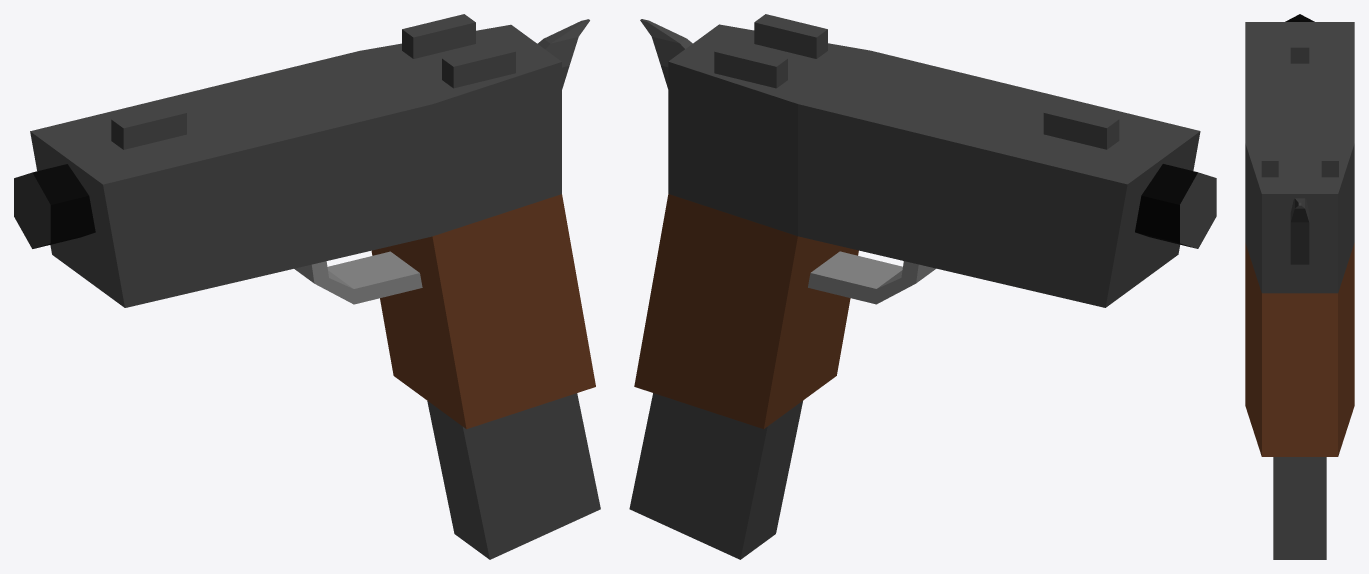
File: Pistol.fbx
3 renders of one model, left to right at view 1: azimuth 30°, elevation 25°; view 2: azimuth 150°, elevation 25°; view 3: azimuth 270°, elevation 25°, orthographic. The views are drawn at different scales.
Visible parts, largest first — view 1: Pistol; view 2: Pistol; view 3: Pistol.
Part boxes in pixels (box(x1,y1,x2,y2)): Pistol: box(14, 14, 600, 559); Pistol: box(629, 14, 1216, 559); Pistol: box(1245, 14, 1354, 559).
Bounding box in the file's own units: 30.59 × 26.74 × 6.94.
Materials: 1 (1 with a texture image).
